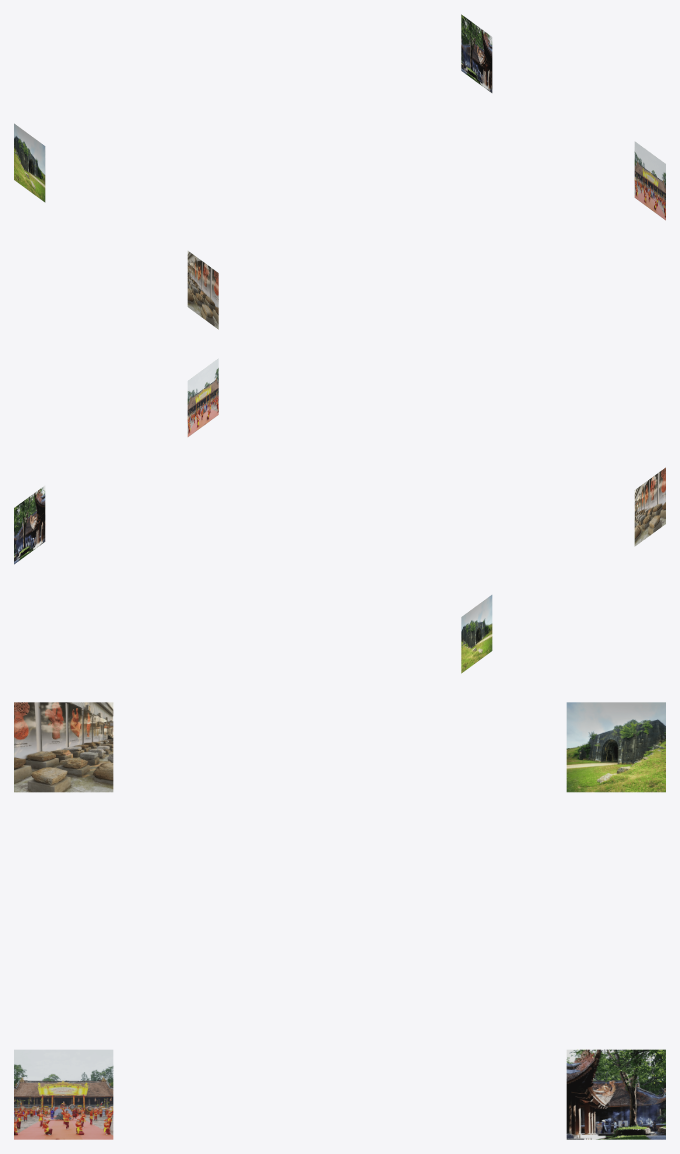
File: bonus img thanhhoa.glb
3 renders of one model, top to bottom at view 1: azimuth 30°, elevation 25°; view 2: azimuth 150°, elevation 25°; view 3: azimuth 270°, elevation 25°, orthographic. The views are drawn at different scales.
Visible parts, largest first — view 1: bonus_img; view 2: bonus_img; view 3: bonus_img.
Part boxes in pixels (x1,y1,x2,y2): bonus_img: (14,14,665,329); bonus_img: (14,358,665,673); bonus_img: (14,702,665,1139).
Size of the model in its own units: 14.88 by 1.8 by 11.8.
1 material, 1 textured.
